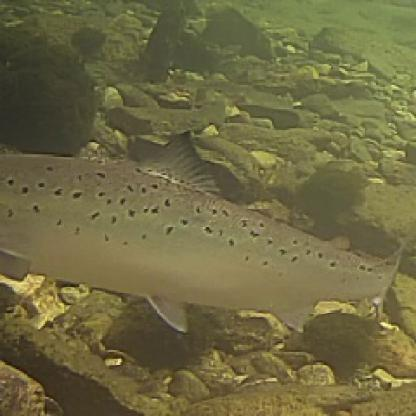salmon: (0, 128, 413, 338)
